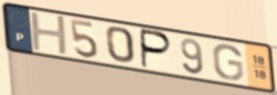0: (104, 25, 138, 66)
5: (69, 17, 100, 60)
9: (179, 37, 205, 76)
G: (211, 43, 246, 82)
H: (29, 11, 71, 57)
P: (140, 27, 175, 71)
